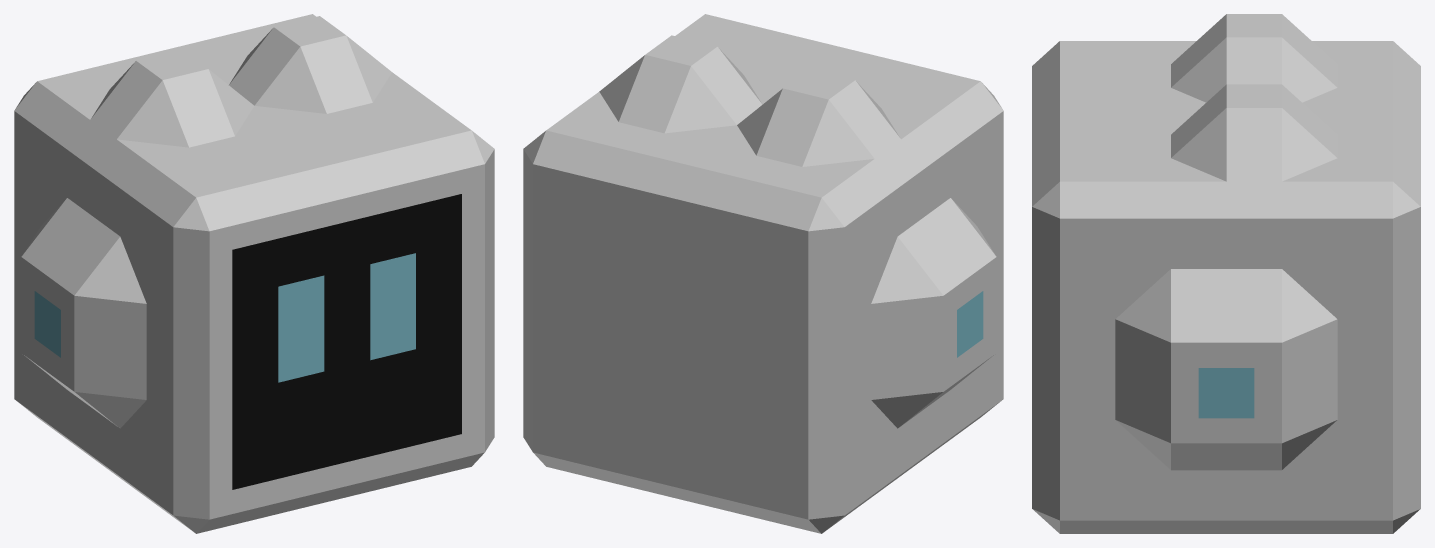
The model's file is robo-head.glb.
3 renders of one model, left to right at view 1: azimuth 30°, elevation 25°; view 2: azimuth 150°, elevation 25°; view 3: azimuth 270°, elevation 25°, orthographic. The views are drawn at different scales.
Parts seen in each view (by area): view 1: robo-head_mc.vox; view 2: robo-head_mc.vox; view 3: robo-head_mc.vox.
Part boxes in pixels (box(x1,y1,x2,y2)): robo-head_mc.vox: box(14, 14, 494, 533); robo-head_mc.vox: box(523, 14, 1003, 533); robo-head_mc.vox: box(1032, 14, 1420, 533).
Size of the model in its own units: 0.9 by 0.8 by 0.7.
